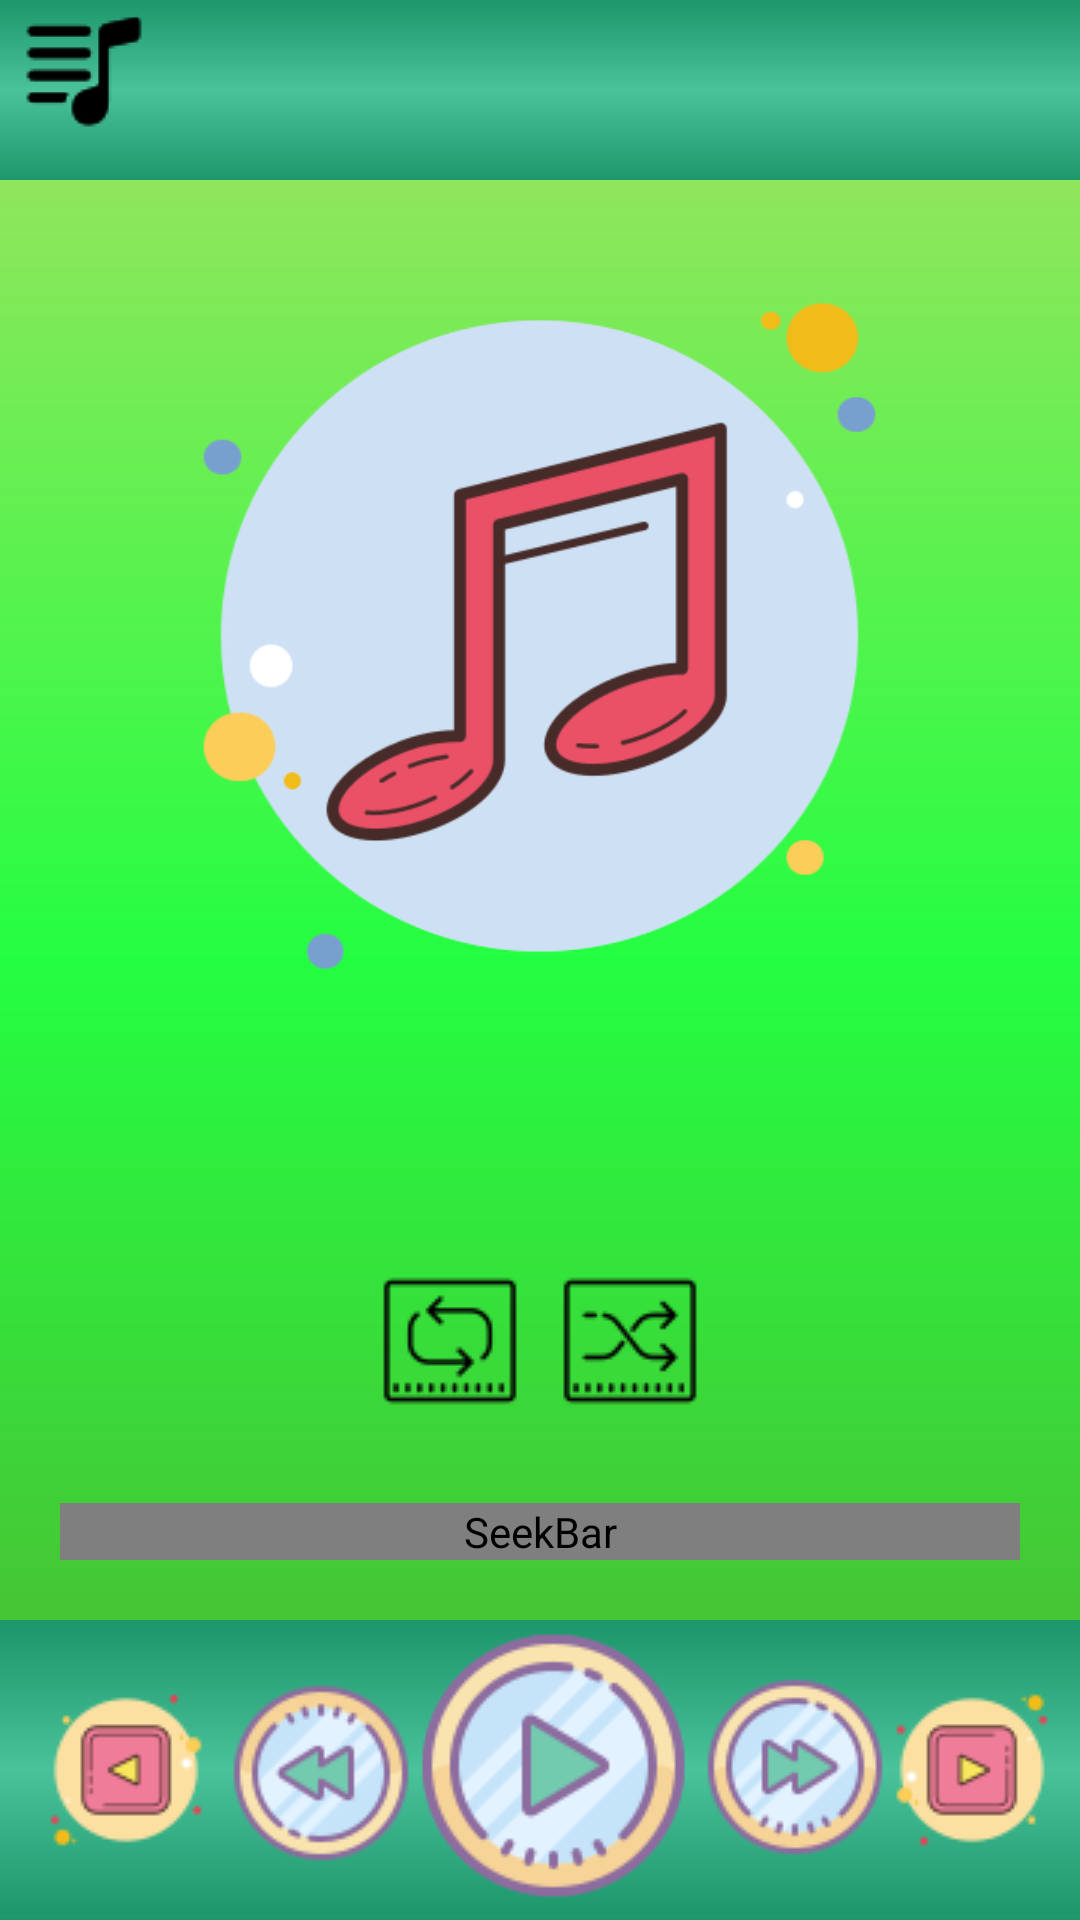

Point at icon controls on the screen. Image size 1080×1920, points as (x,y).
backward: (318,1773)
forward: (798,1767)
next: (972,1770)
play: (558,1765)
playlist: (82,63)
previous: (126,1770)
repeat: (450,1341)
shuffle: (630,1341)
